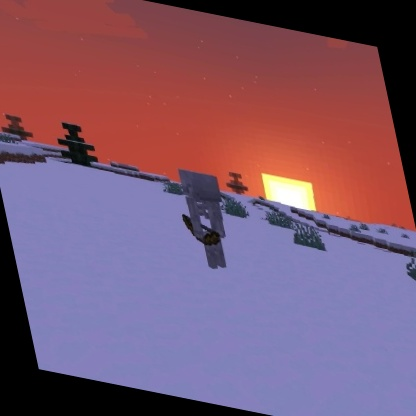skeleton: (168, 164, 242, 278)
